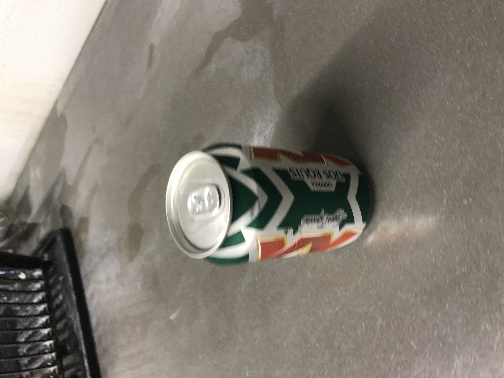DEL: (118, 102, 274, 195)
